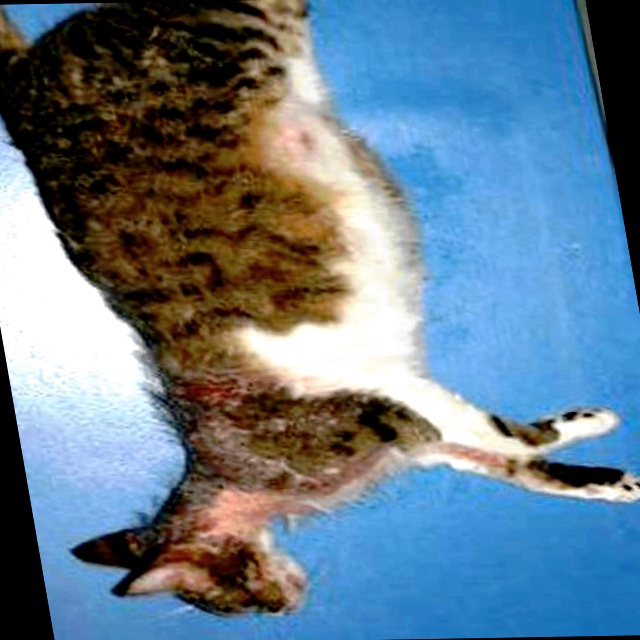hairloss: (208, 77, 435, 391)
